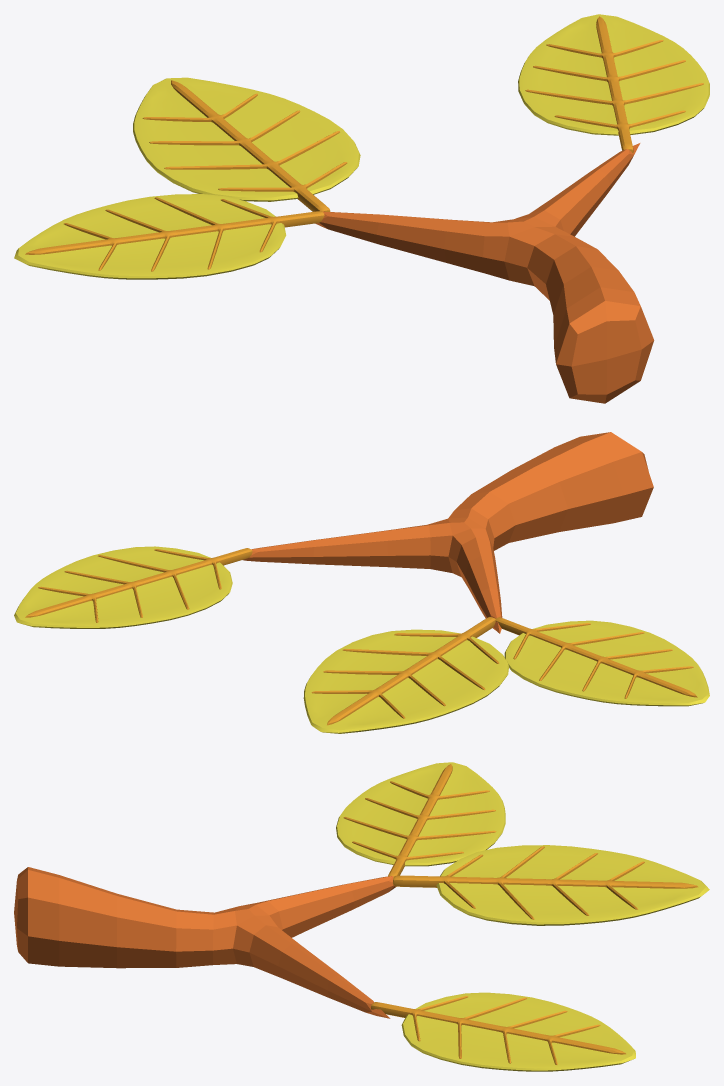
The model's file is daun.fbx.
The picture shows the model from 3 angles, top to bottom: view 1: azimuth 30°, elevation 25°; view 2: azimuth 150°, elevation 25°; view 3: azimuth 270°, elevation 25°; orthographic projection. The views are drawn at different scales.
Visible parts, largest first — view 1: Cube.001, Plane.032, Plane.028, Plane.030, Plane.034, Plane.029, Plane.031; view 2: Cube.001, Plane.032, Plane.030, Plane.028, Plane.034, Plane.031, Plane.029; view 3: Cube.001, Plane.032, Plane.030, Plane.028, Plane.034, Plane.031, Plane.029.
Boxes of the visible parts, box(x1,y1,x2,y2) form: Cube.001: box(315, 143, 654, 403); Plane.032: box(133, 77, 360, 201); Plane.028: box(14, 194, 286, 279); Plane.030: box(518, 14, 709, 135); Plane.034: box(142, 80, 347, 211); Plane.029: box(25, 197, 324, 271); Plane.031: box(525, 16, 703, 152); Cube.001: box(243, 432, 653, 633); Plane.032: box(303, 629, 508, 733); Plane.030: box(14, 546, 232, 628); Plane.028: box(504, 620, 709, 706); Plane.034: box(311, 617, 498, 725); Plane.031: box(25, 548, 252, 622); Plane.029: box(495, 617, 697, 698); Cube.001: box(14, 867, 396, 1018); Plane.032: box(436, 845, 709, 925); Plane.030: box(401, 992, 635, 1071); Plane.028: box(336, 762, 505, 866); Plane.034: box(393, 846, 698, 919); Plane.031: box(371, 996, 625, 1064); Plane.029: box(343, 764, 496, 877).
Bounding box in the file's own units: 309 × 42.41 × 295.
